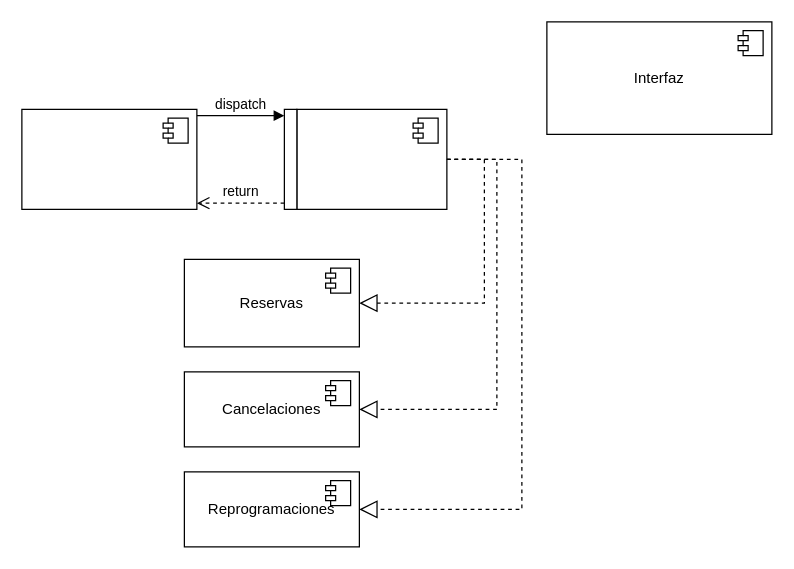
This 794x569 diagram has some shape labels left out. The shapes that lost their labels are listed below. From the top down, each one's centre as x and y in pixels, then its label:
[109,158]: Base de datos
[371,158]: Citas
